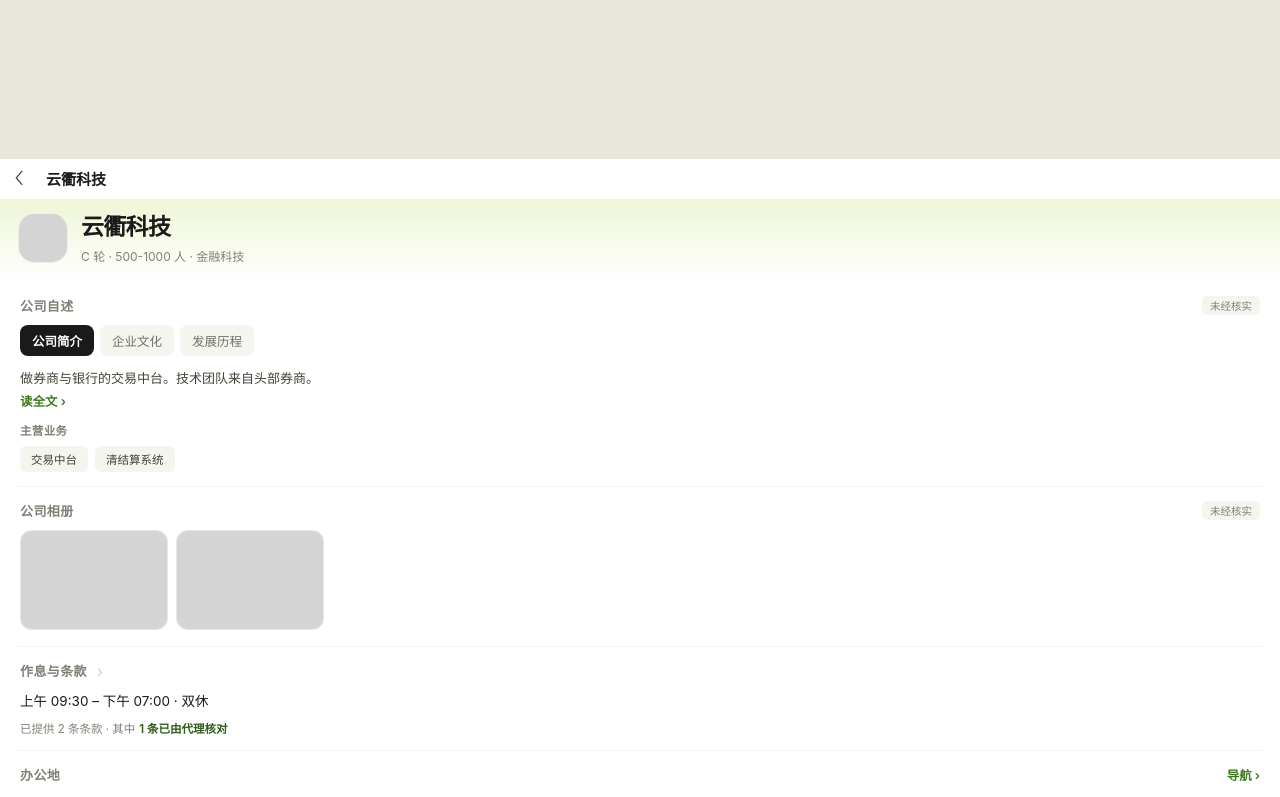
企业公开页展示 · 主屏与公司自述 › 团队成员子字段缺失分别说明，不让整行消失
This screenshot has width=1280, height=797.
(page scrolled)
Click the button "读全文 ›". click: (43, 400)
box: [20,390,66,410]
(page scrolled)
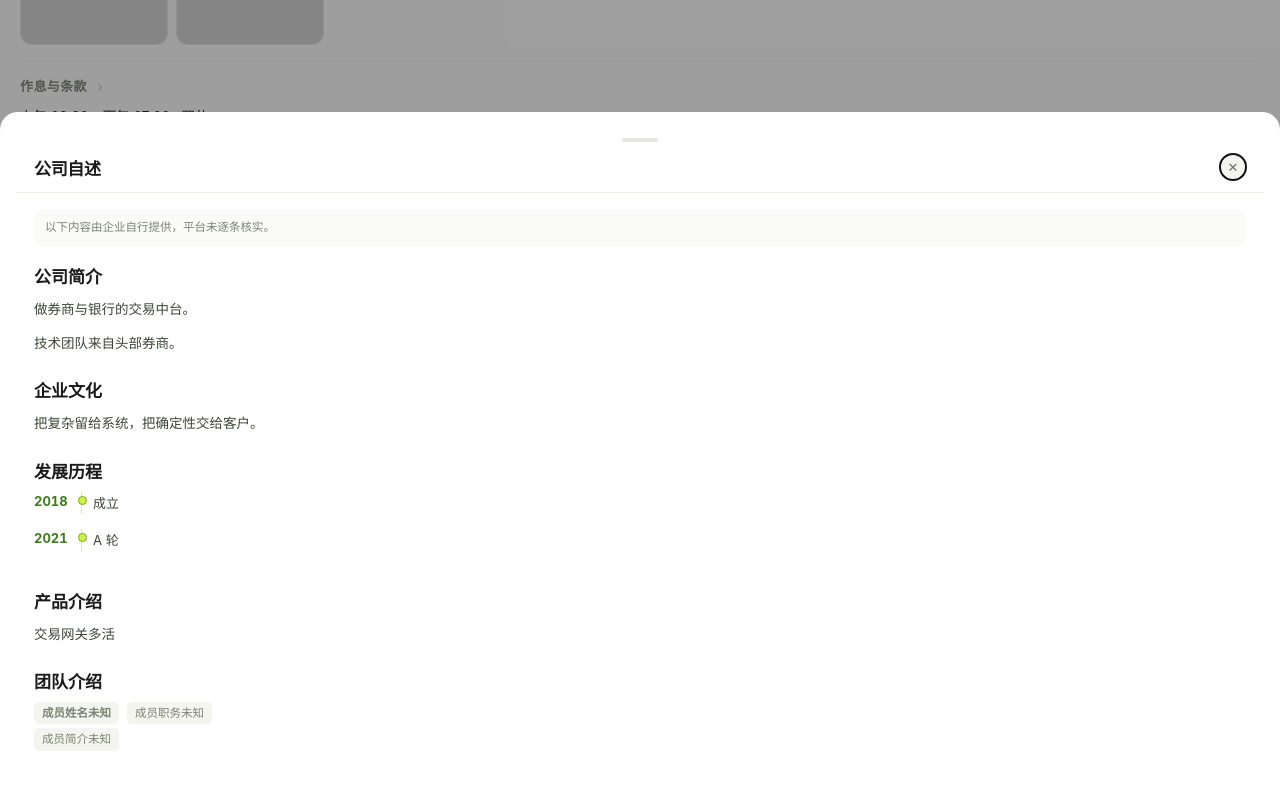
Result: the text "成员姓名未知" is shown at [34,702,119,724]
Result: the text "成员职务未知" is shown at [127,702,212,724]
Result: the text "成员简介未知" is shown at [34,728,119,751]
